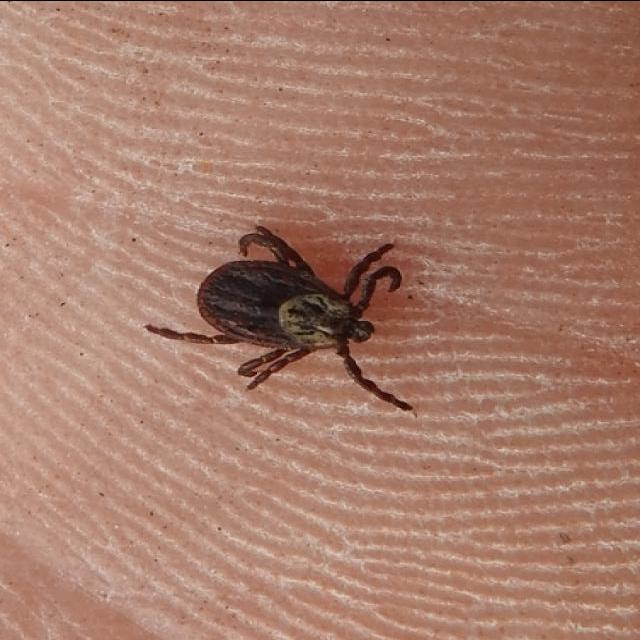Dermacentor Reticulatus-F: (155, 224, 412, 408)
